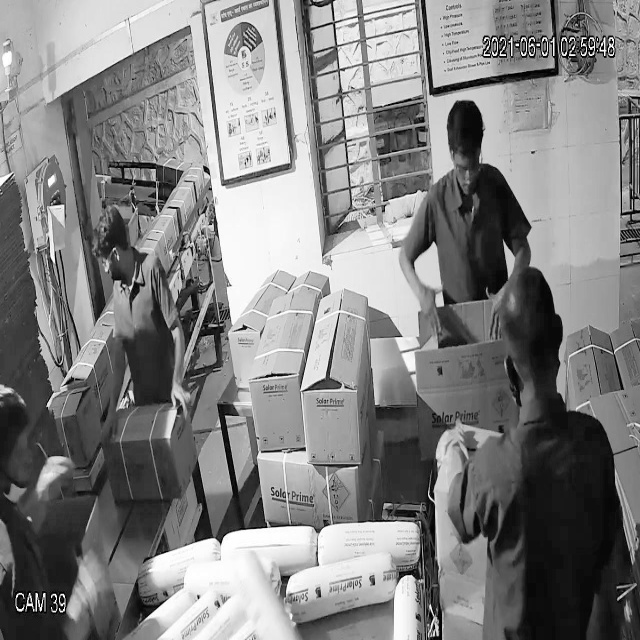Gafas: (446, 148, 488, 184)
